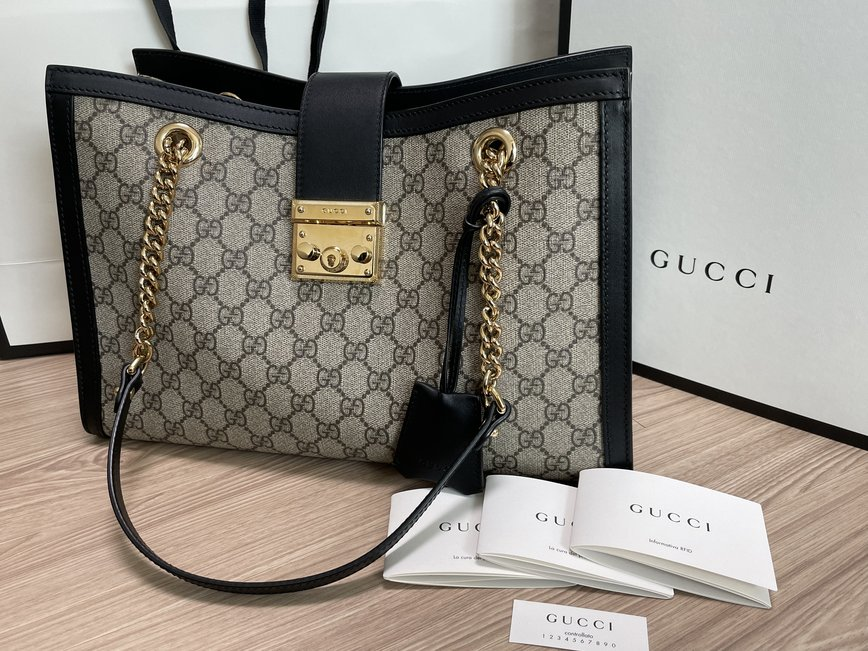Gucci: (33, 28, 668, 596), (176, 193, 298, 439), (292, 80, 399, 311)
